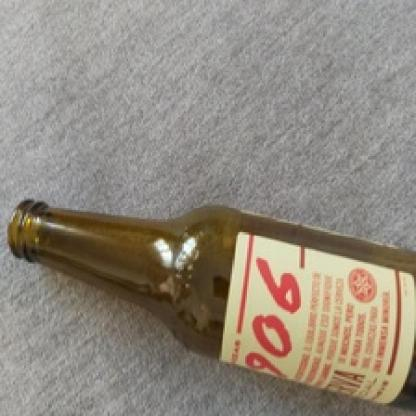Can: (7, 198, 416, 410)
